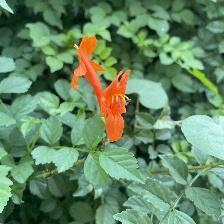honeysuckle: (100, 69, 134, 145)
